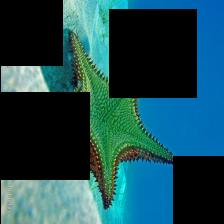green: (54, 31, 176, 210)
